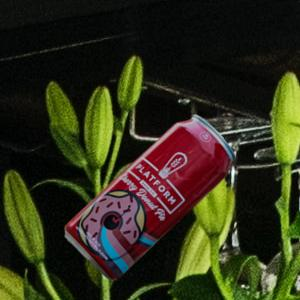can: (63, 112, 236, 281)
